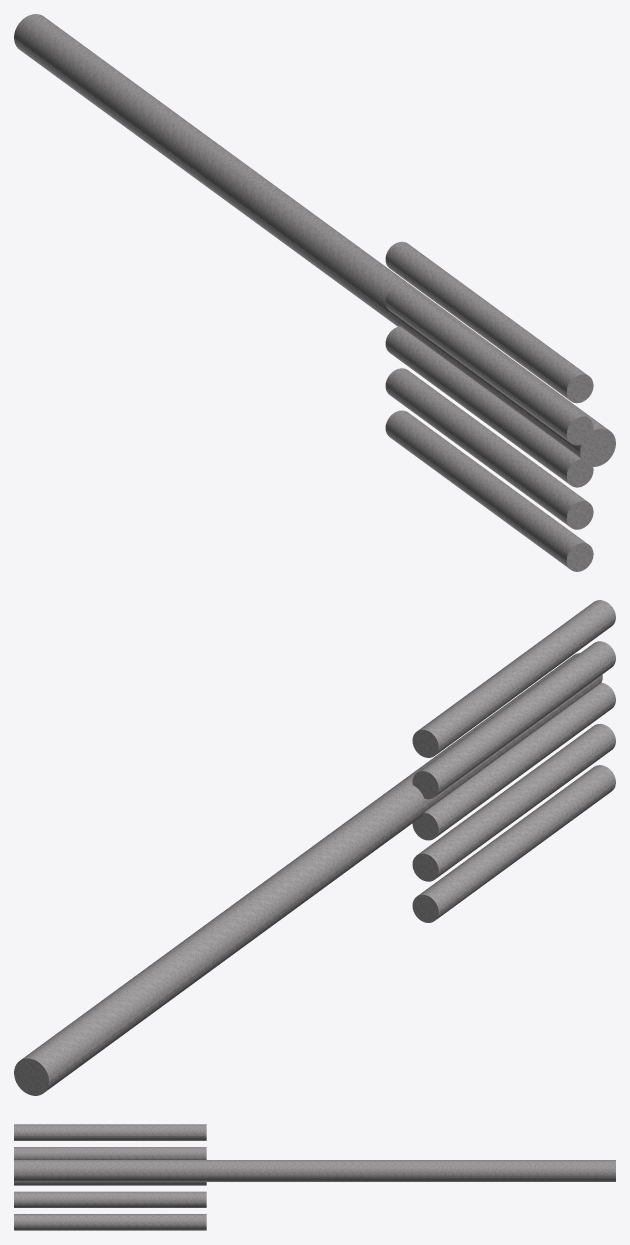
3 renders of one model, top to bottom at view 1: azimuth 30°, elevation 25°; view 2: azimuth 150°, elevation 25°; view 3: azimuth 270°, elevation 25°, orthographic. The views are drawn at different scales.
Visible parts, largest first — view 1: 0_3_1_2_1_3_0_0; view 2: 0_3_1_2_1_3_0_0; view 3: 0_3_1_2_1_3_0_0.
Part boxes in pixels (<box>): 0_3_1_2_1_3_0_0: <box>14,14,615,571</box>; 0_3_1_2_1_3_0_0: <box>14,600,615,1095</box>; 0_3_1_2_1_3_0_0: <box>14,1124,615,1230</box>.
Size of the model in its own units: 1.1 by 4.2 by 21.9.
Materials: 6 (6 with a texture image).
